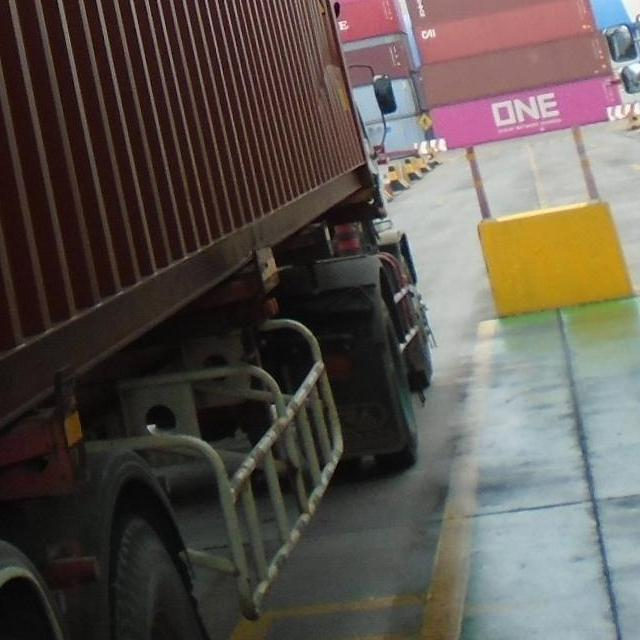dent: (313, 43, 350, 114)
